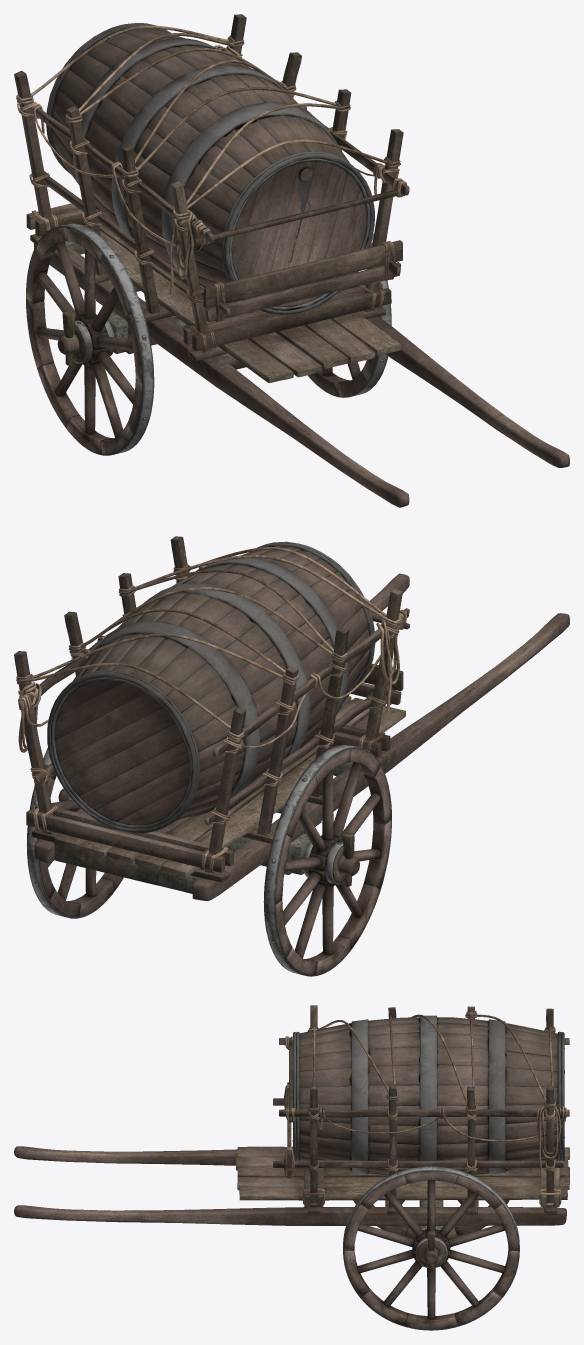
Rendered from medieval-cart-lite.glb.
3 renders of one model, top to bottom at view 1: azimuth 30°, elevation 25°; view 2: azimuth 150°, elevation 25°; view 3: azimuth 270°, elevation 25°, orthographic. The views are drawn at different scales.
Visible parts, largest first — view 1: MC01 - Medieval Cart 01.Shape, MC01 - Large Barrel.Shape, MC01 - Rope Top.Shape, MC01 - Rope Side Right.Shape; view 2: MC01 - Medieval Cart 01.Shape, MC01 - Large Barrel.Shape, MC01 - Rope Top.Shape, MC01 - Rope Side Right.Shape, MC01 - Rope Side Left.Shape; view 3: MC01 - Medieval Cart 01.Shape, MC01 - Large Barrel.Shape, MC01 - Rope Top.Shape, MC01 - Rope Side Left.Shape.
Part boxes in pixels (x1,y1,x2,y2): MC01 - Medieval Cart 01.Shape: (14, 14, 569, 507); MC01 - Large Barrel.Shape: (46, 23, 374, 314); MC01 - Rope Top.Shape: (16, 25, 400, 219); MC01 - Rope Side Right.Shape: (31, 103, 203, 295); MC01 - Medieval Cart 01.Shape: (14, 536, 569, 976); MC01 - Large Barrel.Shape: (47, 541, 375, 833); MC01 - Rope Top.Shape: (16, 547, 401, 742); MC01 - Rope Side Right.Shape: (242, 616, 400, 748); MC01 - Rope Side Left.Shape: (18, 578, 184, 752); MC01 - Medieval Cart 01.Shape: (14, 1005, 569, 1330); MC01 - Large Barrel.Shape: (292, 1015, 564, 1175); MC01 - Rope Top.Shape: (307, 1011, 555, 1114); MC01 - Rope Side Left.Shape: (319, 1106, 567, 1172).
Bounding box in the file's own units: 1.4 × 1.59 × 3.03.
17 materials, 17 textured.
